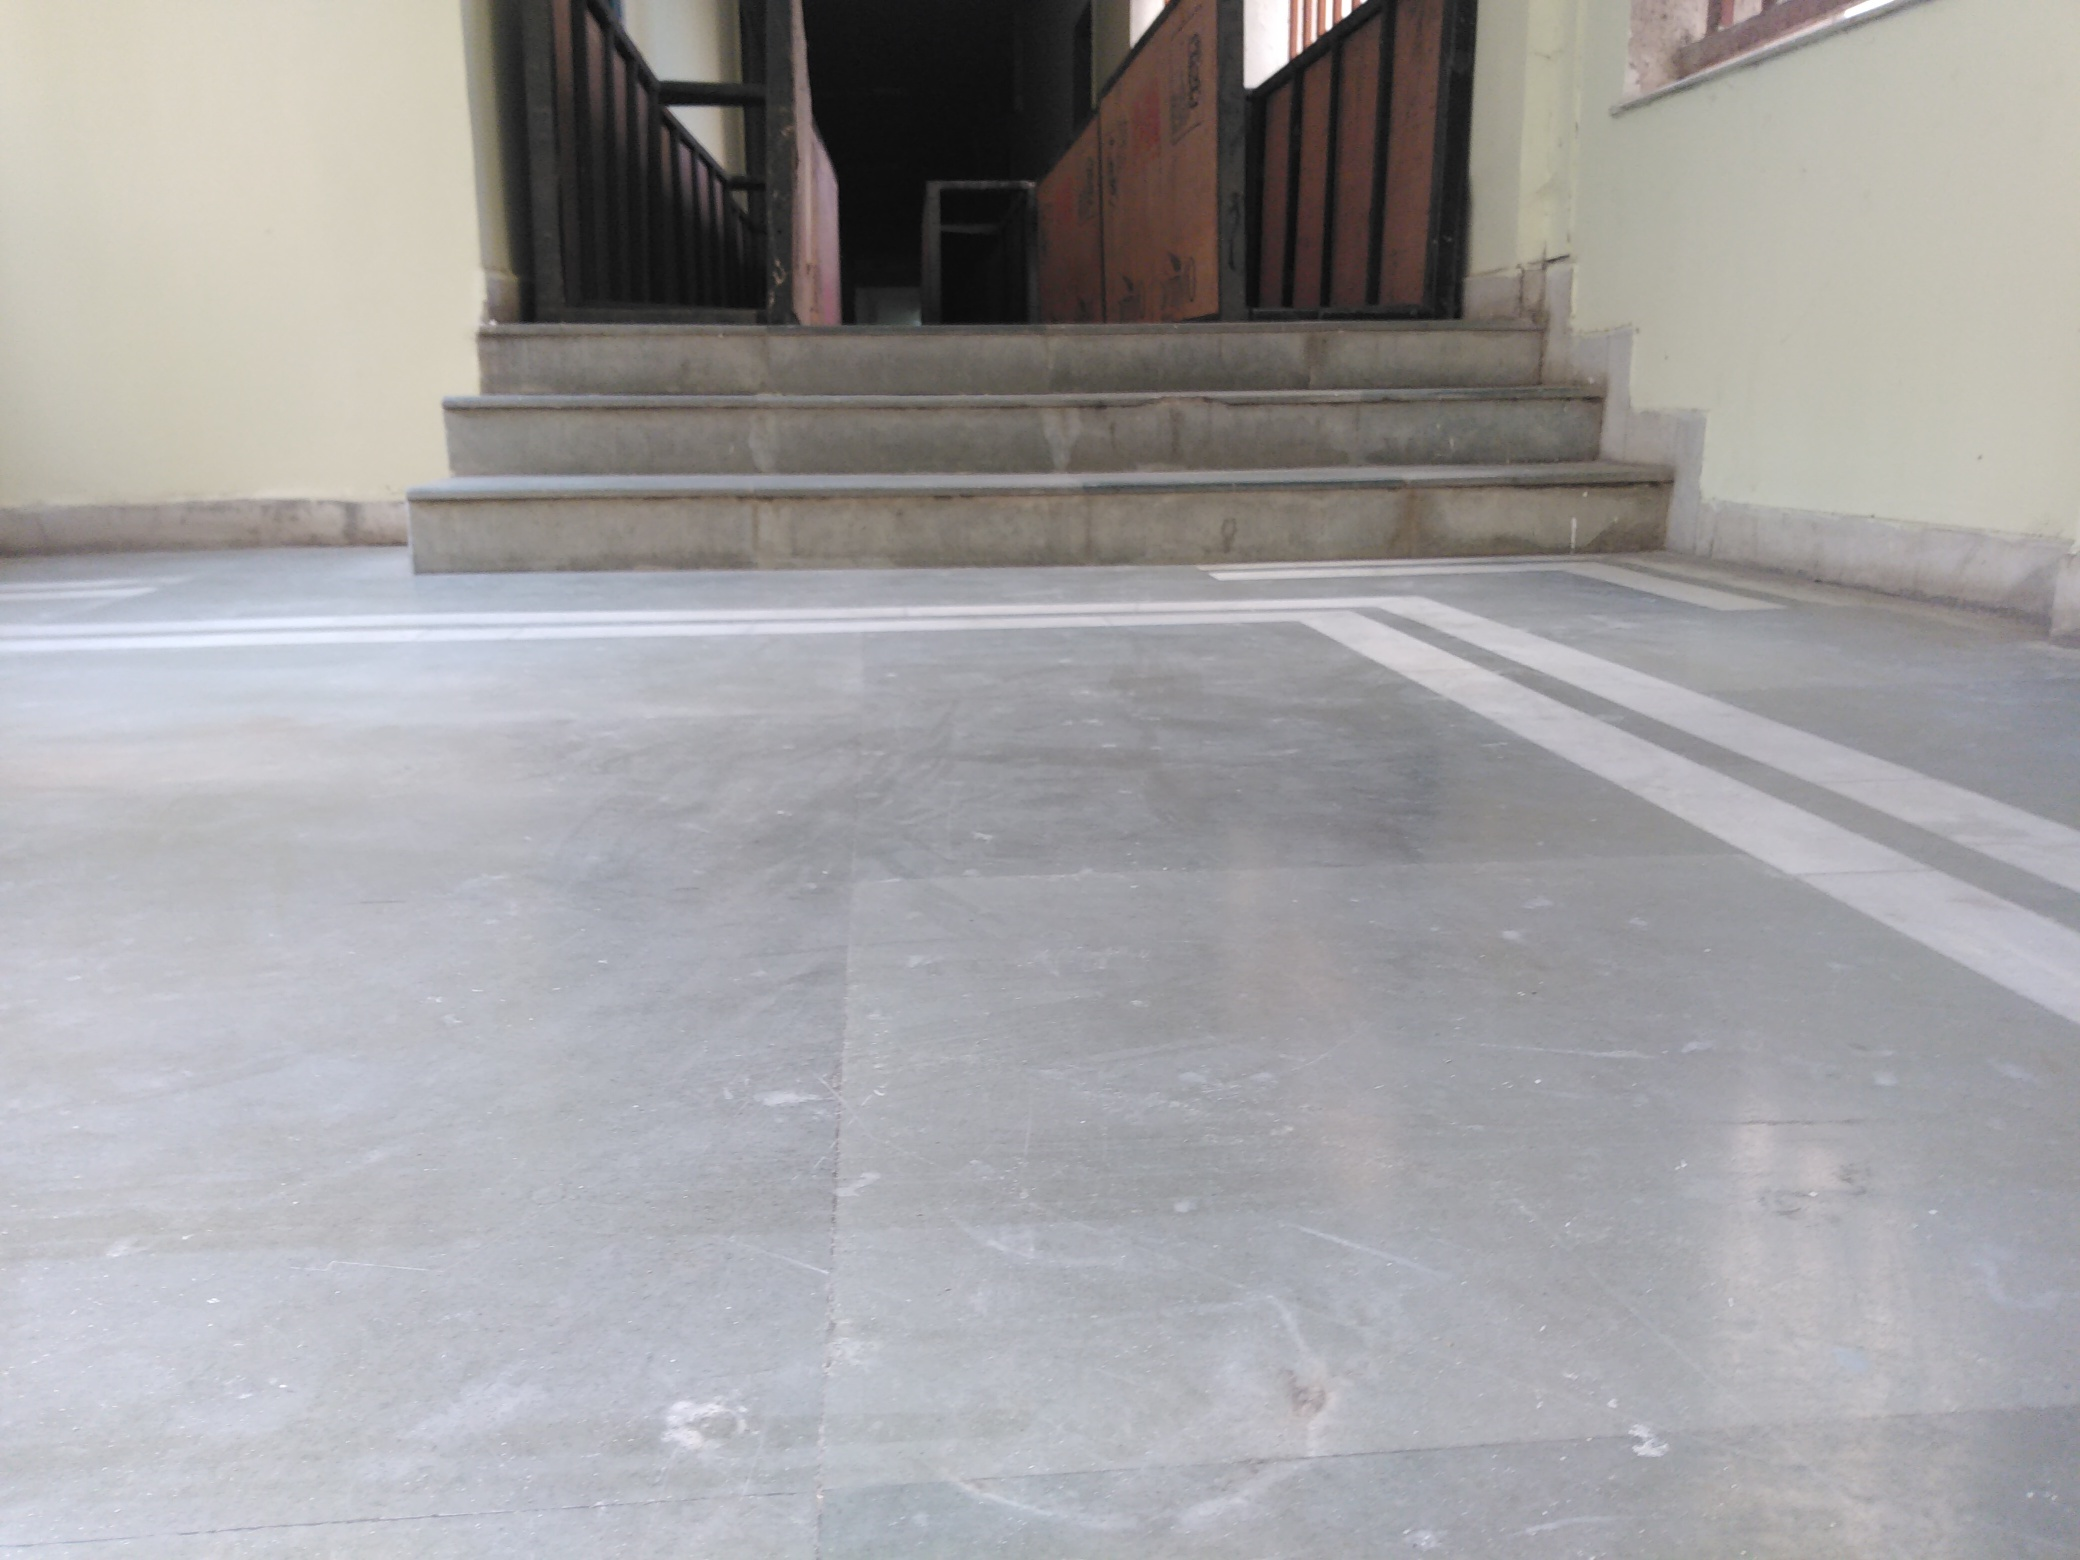stairs_up: (405, 300, 1679, 580)
